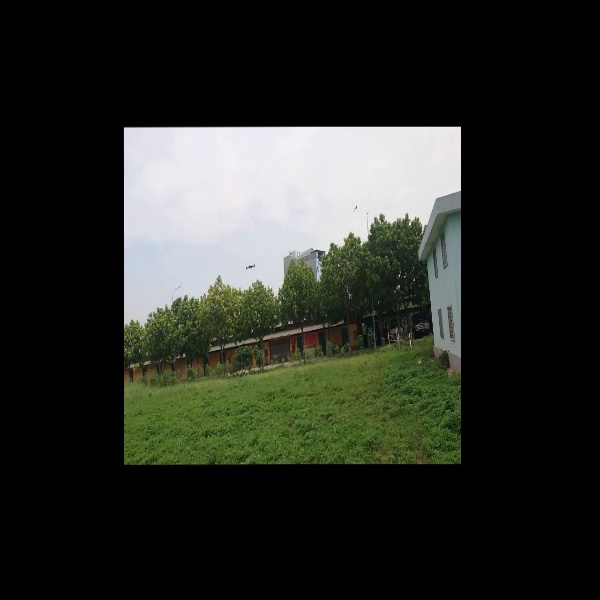drone: (242, 260, 261, 273)
